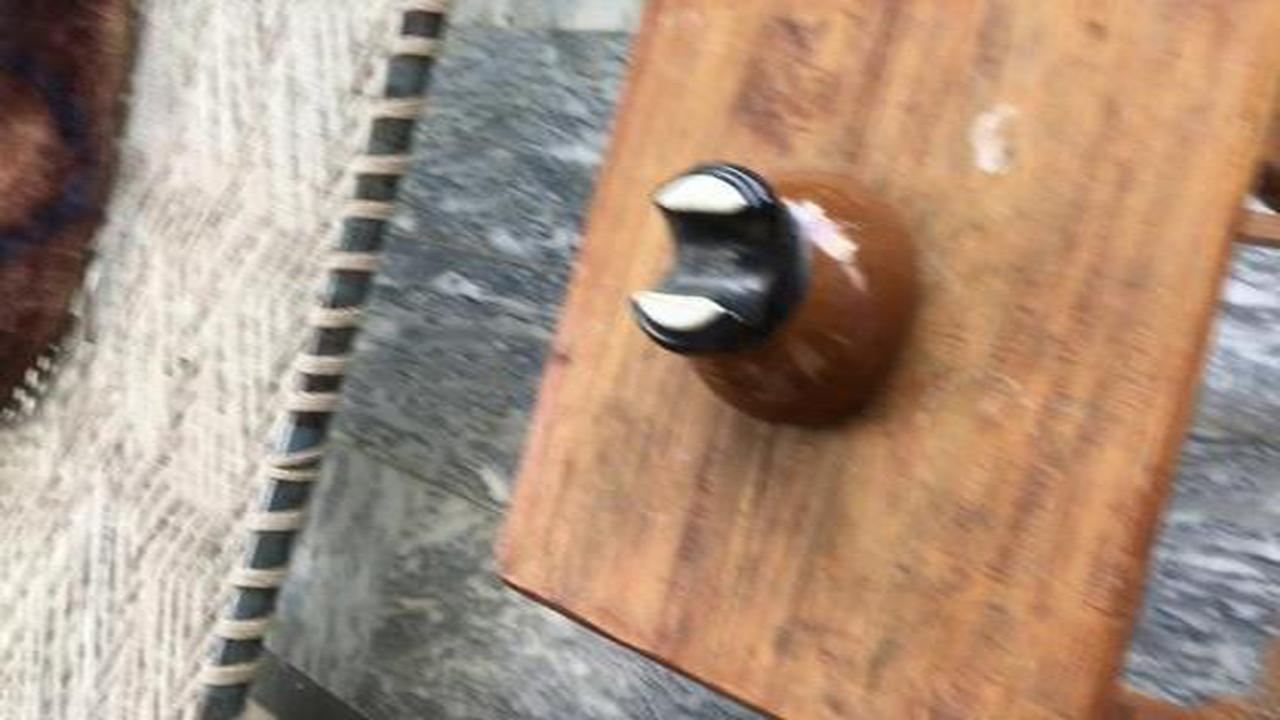insulator_pin: (604, 155, 945, 444)
